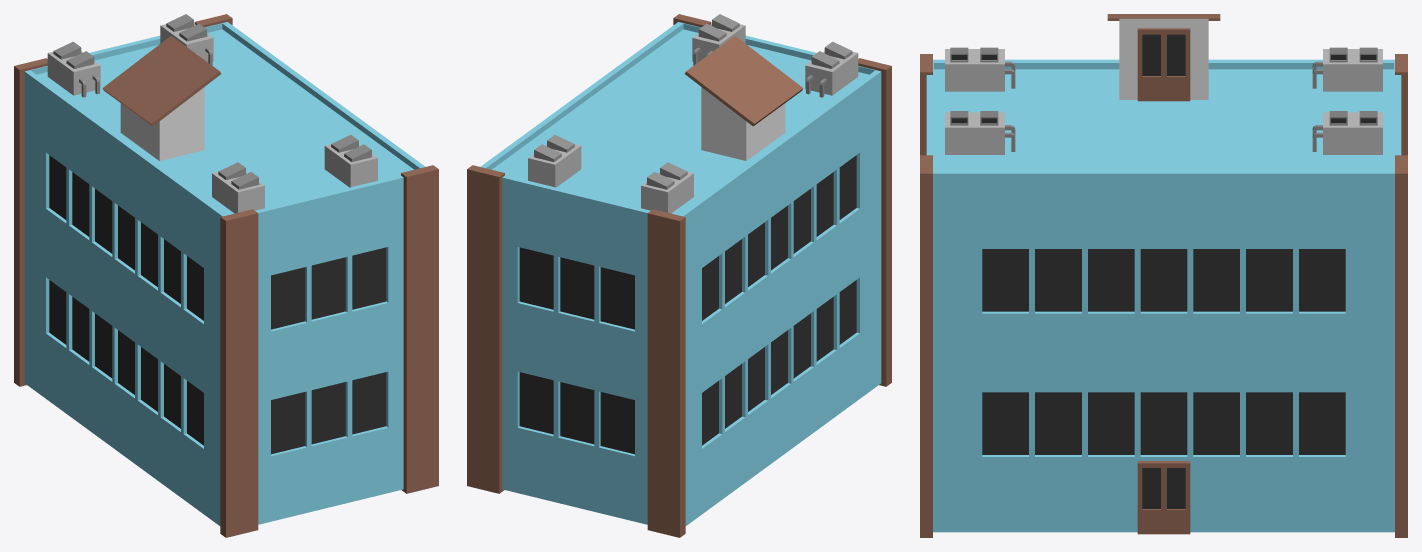
Rendered from flat_03.fbx.
3 renders of one model, left to right at view 1: azimuth 30°, elevation 25°; view 2: azimuth 150°, elevation 25°; view 3: azimuth 270°, elevation 25°, orthographic. The views are drawn at different scales.
Parts seen in each view (by area): view 1: flat_03; view 2: flat_03; view 3: flat_03.
Part boxes in pixels (x1,y1,x2,y2): flat_03: (14, 14, 438, 537); flat_03: (467, 14, 891, 537); flat_03: (920, 14, 1407, 537).
Bounding box in the file's own units: 9.43 × 16.45 × 16.27.
